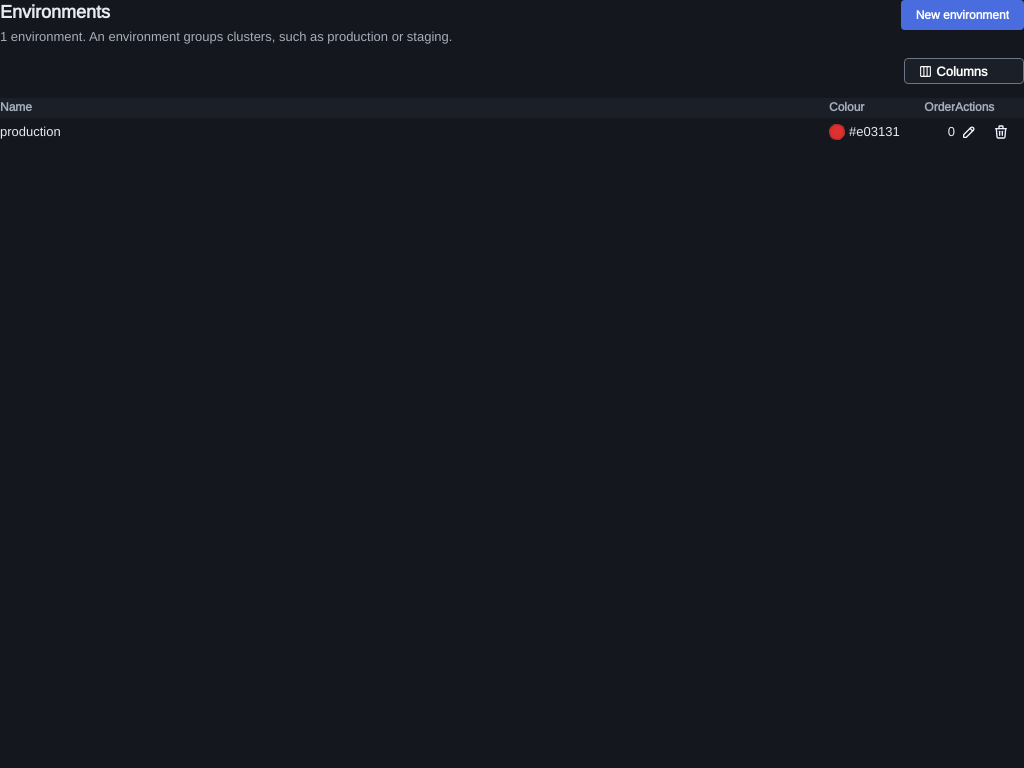
EnvironmentsPanel › deletes an environment
Check: the text "production" is shown, box left=0, top=123, right=61, bottom=140
Click the button named "Delete production" at (1001, 132), box left=987, top=118, right=1015, bottom=146
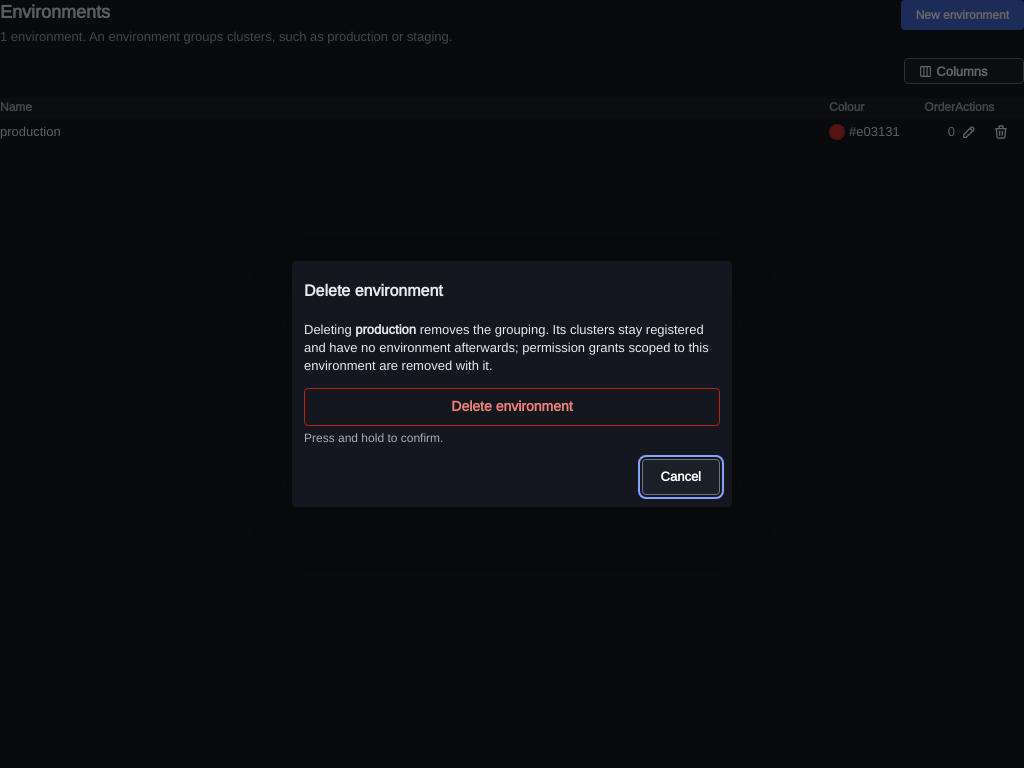
Check: the dialog "Delete environment" shows "Its clusters stay registered", box left=304, top=321, right=709, bottom=374
Press the mouse on the button "Delete environment Delete environment" at (512, 407), box left=304, top=388, right=720, bottom=426
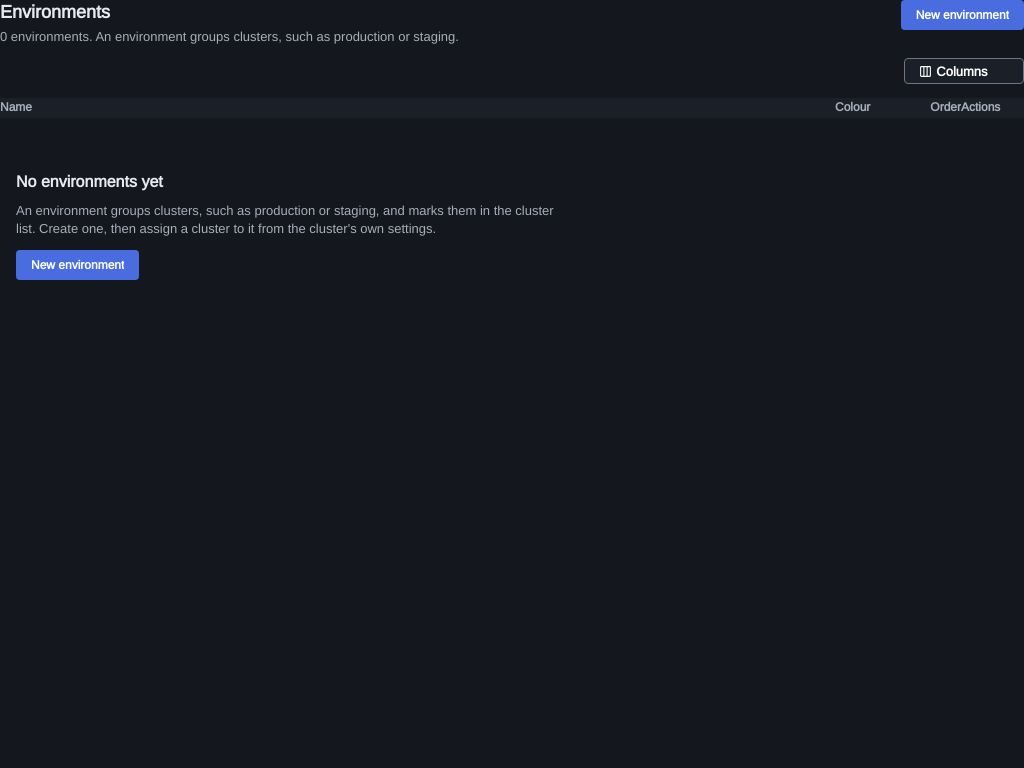
Check: the text "0 environments." is shown, box left=0, top=28, right=459, bottom=45
